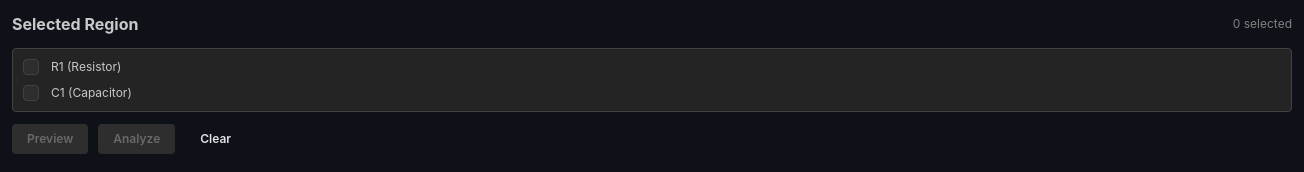
Test: SelectedRegionPanel › selecting components updates count
Click the checkbox labelled "R1 (Resistor)": (31, 67) [23,59,39,75]
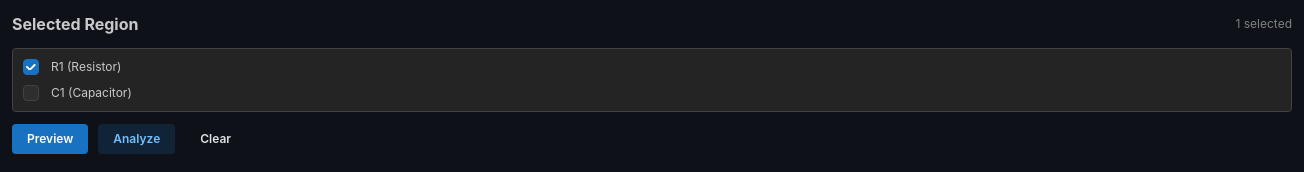
Check: the text "1 selected" is shown, box [1236,16,1292,32]
